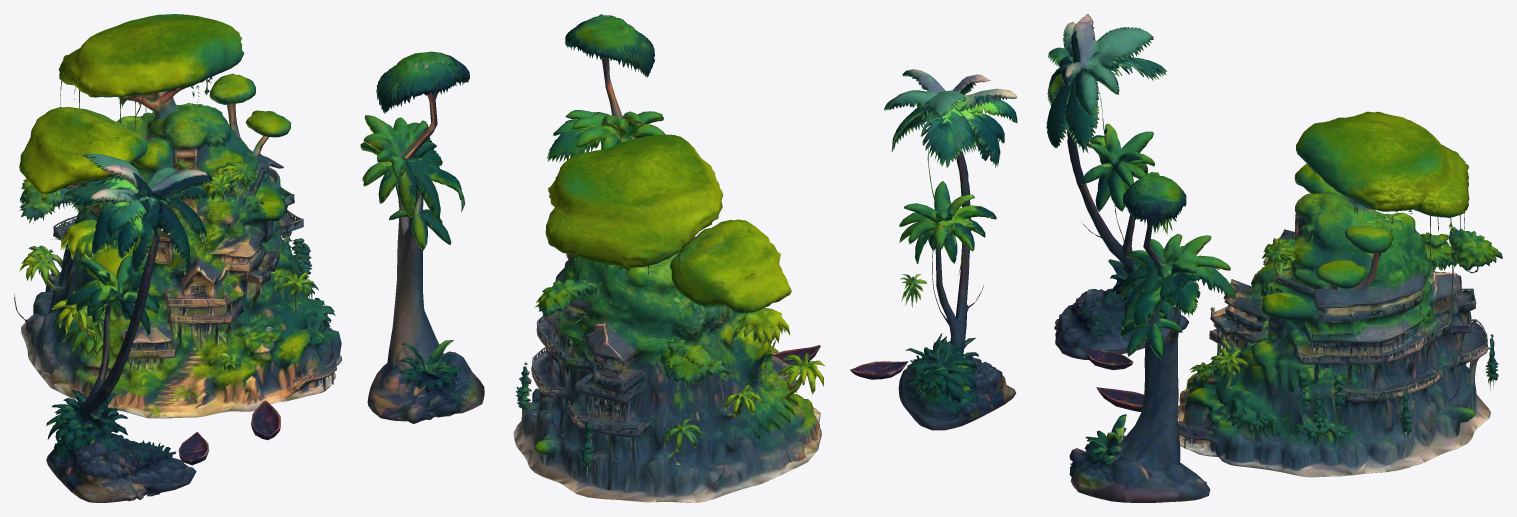
Rendered from Treehouse_Island.glb.
3 renders of one model, left to right at view 1: azimuth 30°, elevation 25°; view 2: azimuth 150°, elevation 25°; view 3: azimuth 270°, elevation 25°, orthographic. The views are drawn at different scales.
Parts seen in each view (by area): view 1: Treehouse_Island; view 2: Treehouse_Island; view 3: Treehouse_Island.
Part boxes in pixels (x1,y1,x2,y2): Treehouse_Island: [14, 14, 484, 502]; Treehouse_Island: [513, 14, 1017, 502]; Treehouse_Island: [1046, 14, 1502, 502].
Bounding box in the file's own units: 1.9 × 1.4 × 1.89.
1 material, 1 textured.
